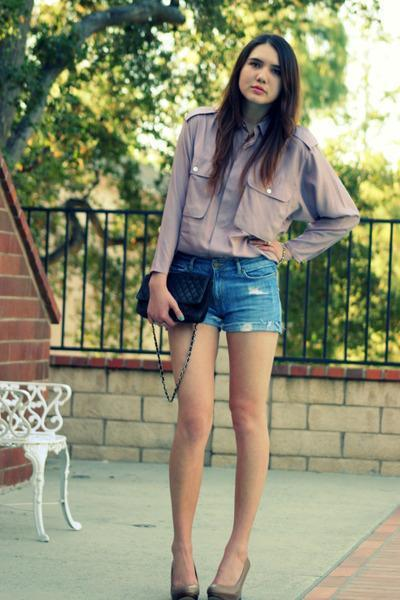bag: (132, 272, 220, 356)
shirt: (151, 113, 369, 275)
shoe: (171, 569, 241, 599)
shorts: (168, 236, 283, 340)
